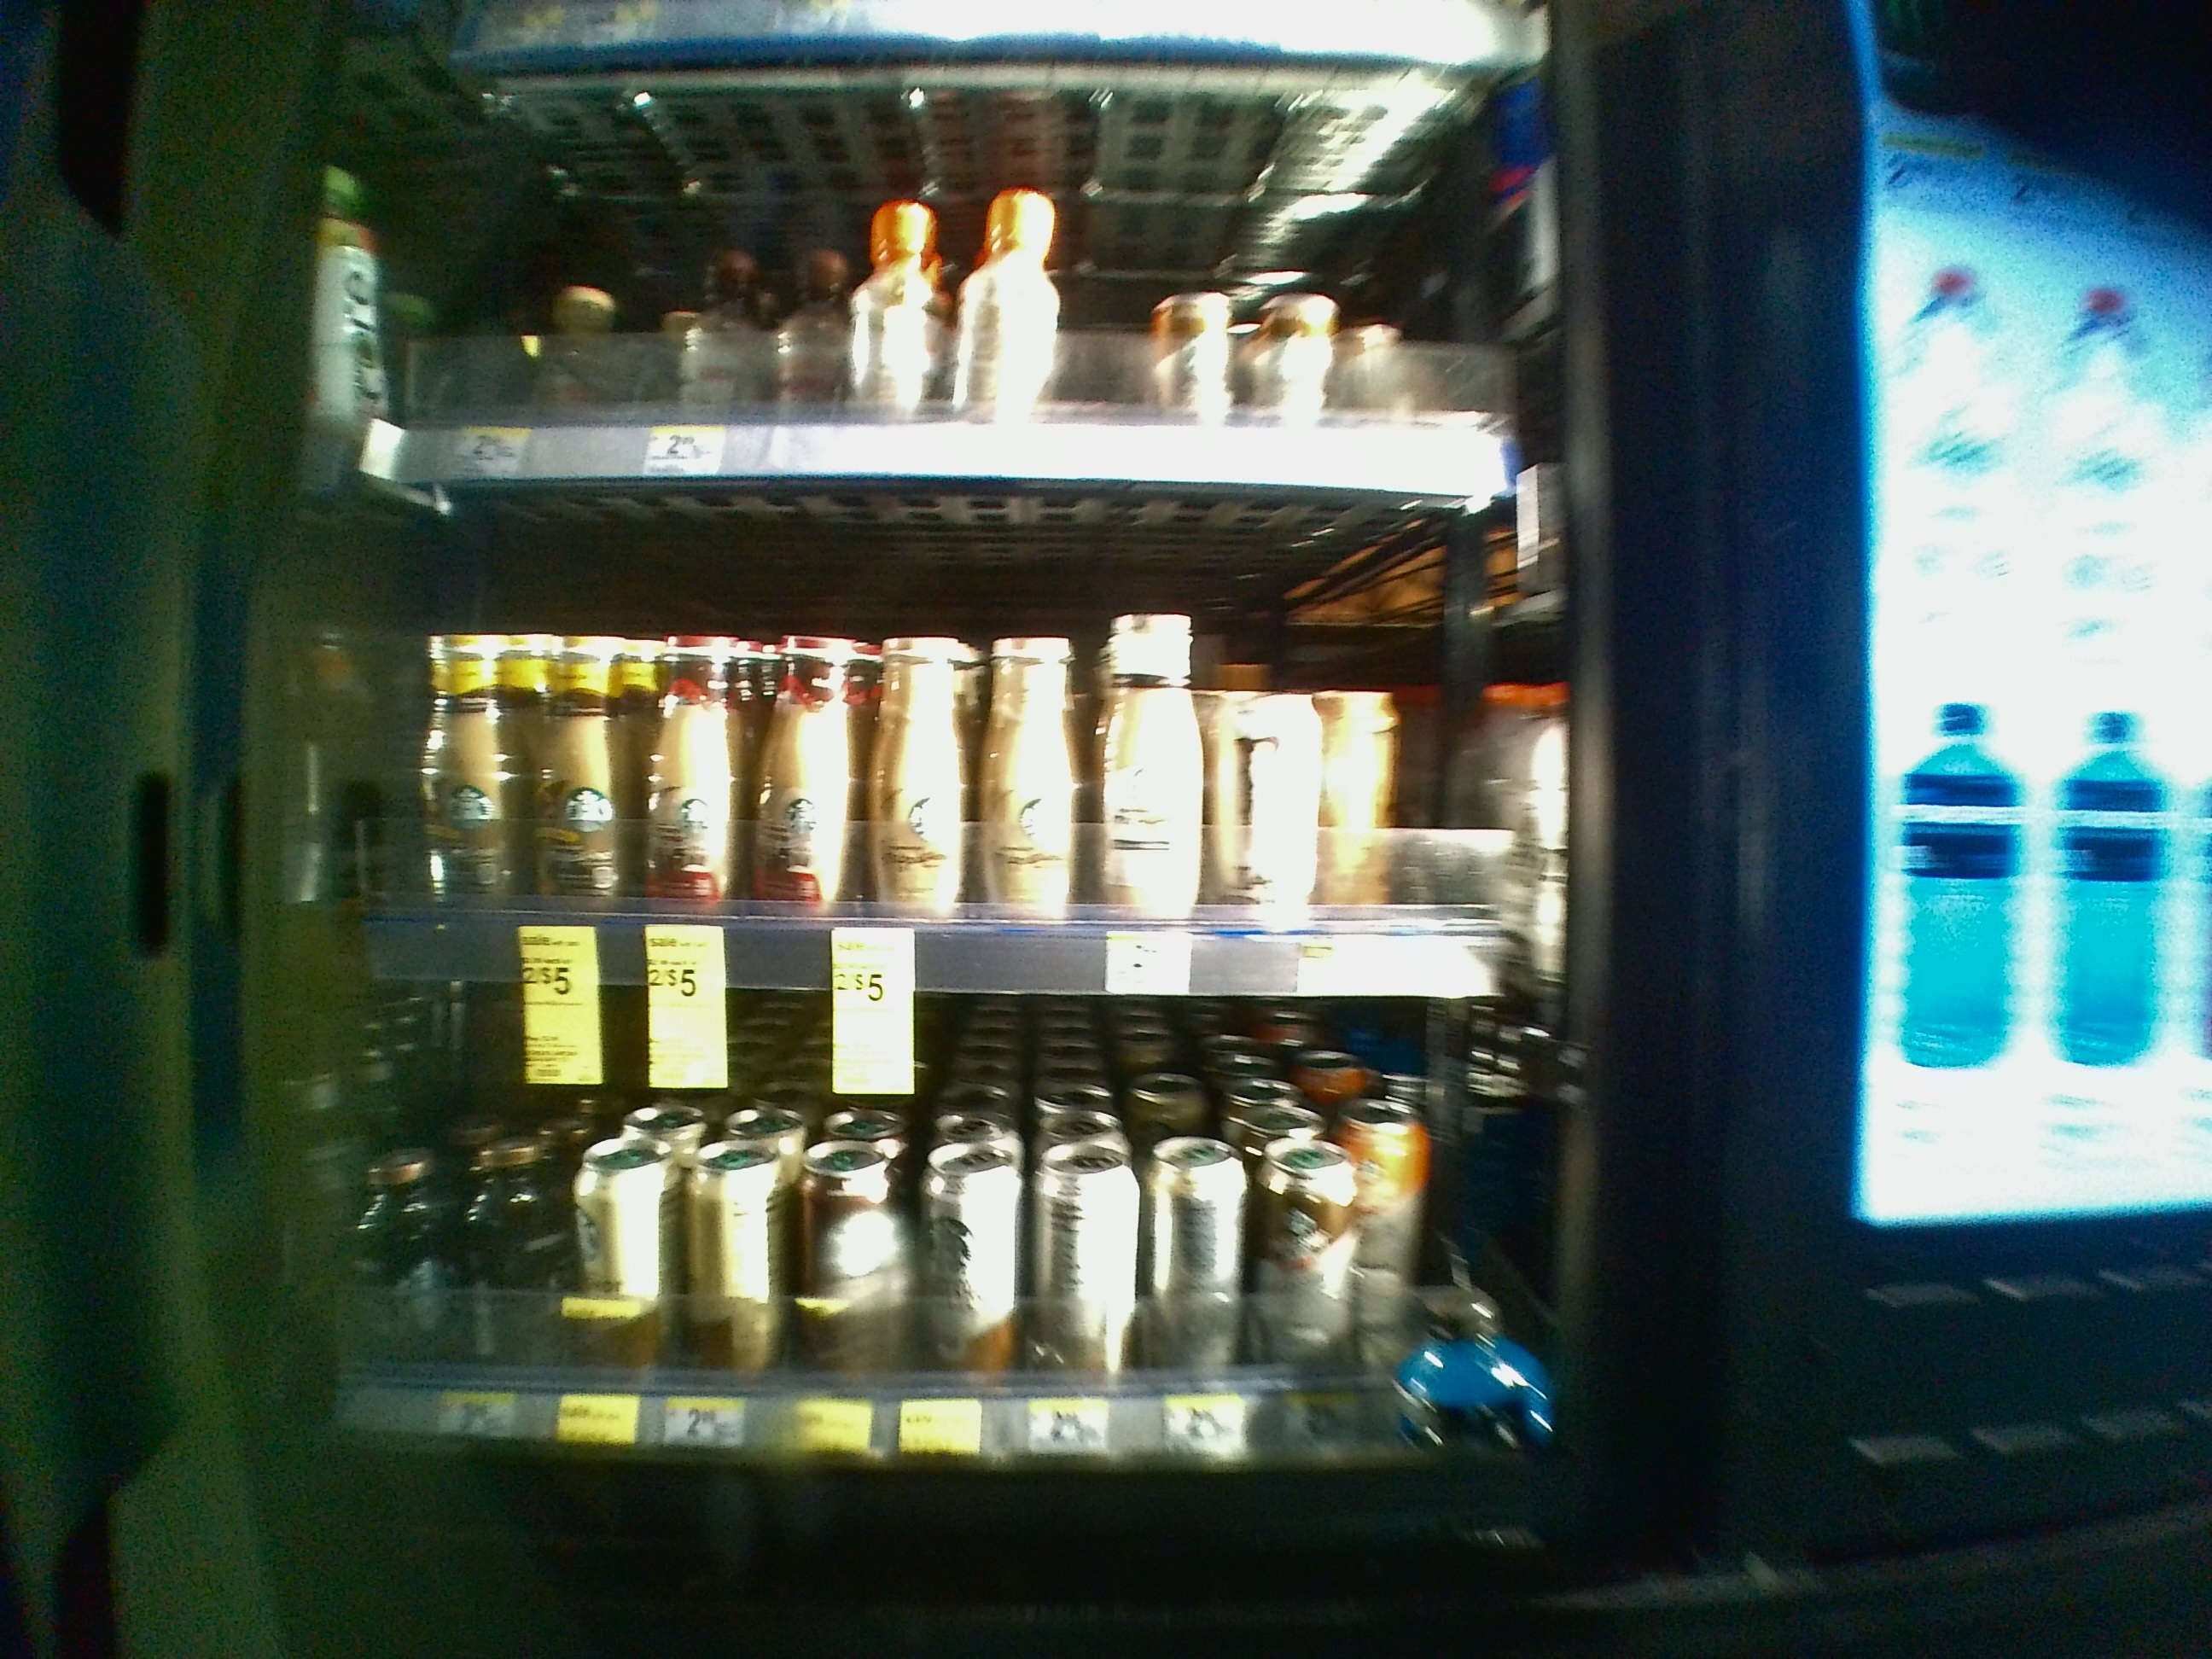shelf: (270, 486, 1590, 995), (260, 983, 1592, 1464)
